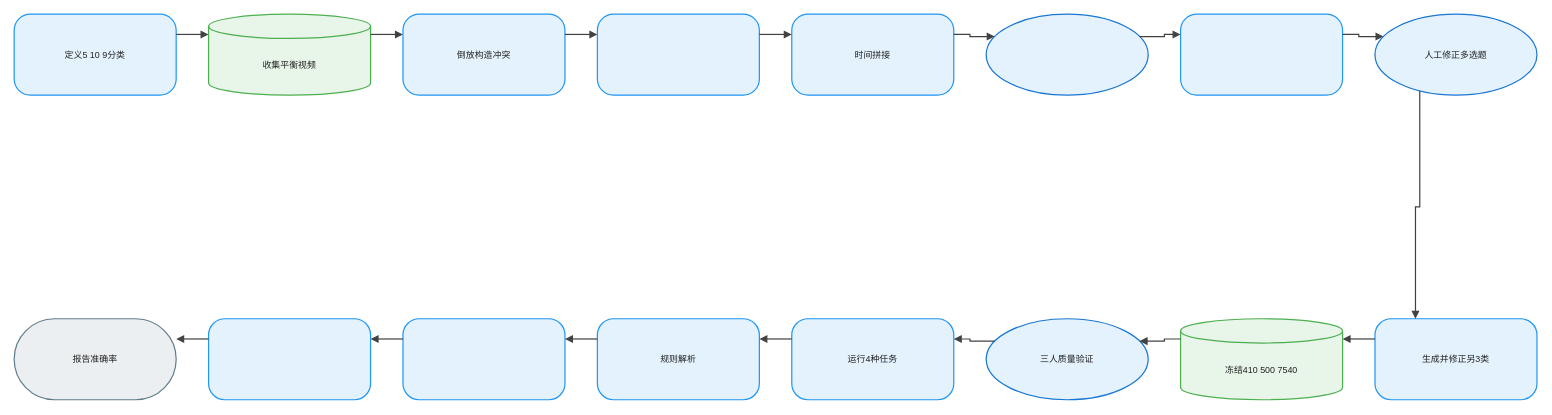
Some shapes in this 1552 by 415 pixel diagram are drawn without their labels. Each missing label, with the centre of its shape:
ChatGPT回退: the point at 483,359
人工标注元信息: the point at 1066,54
以多选题判断字幕: the point at 289,359
生成多选题: the point at 1261,54
空间拼接: the point at 678,54
